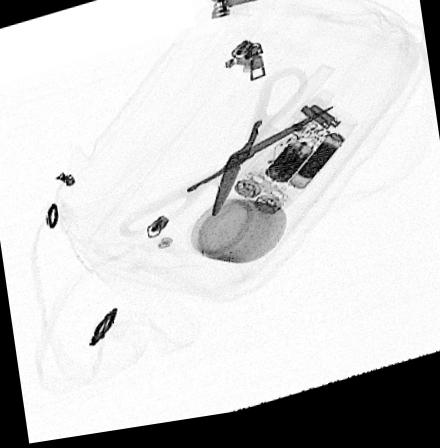Scissors: (116, 75, 335, 244)
